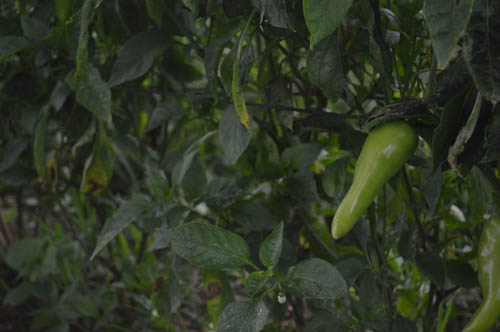ChiliPepper: (332, 126, 416, 242)
